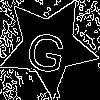G: (23, 21, 71, 75)
